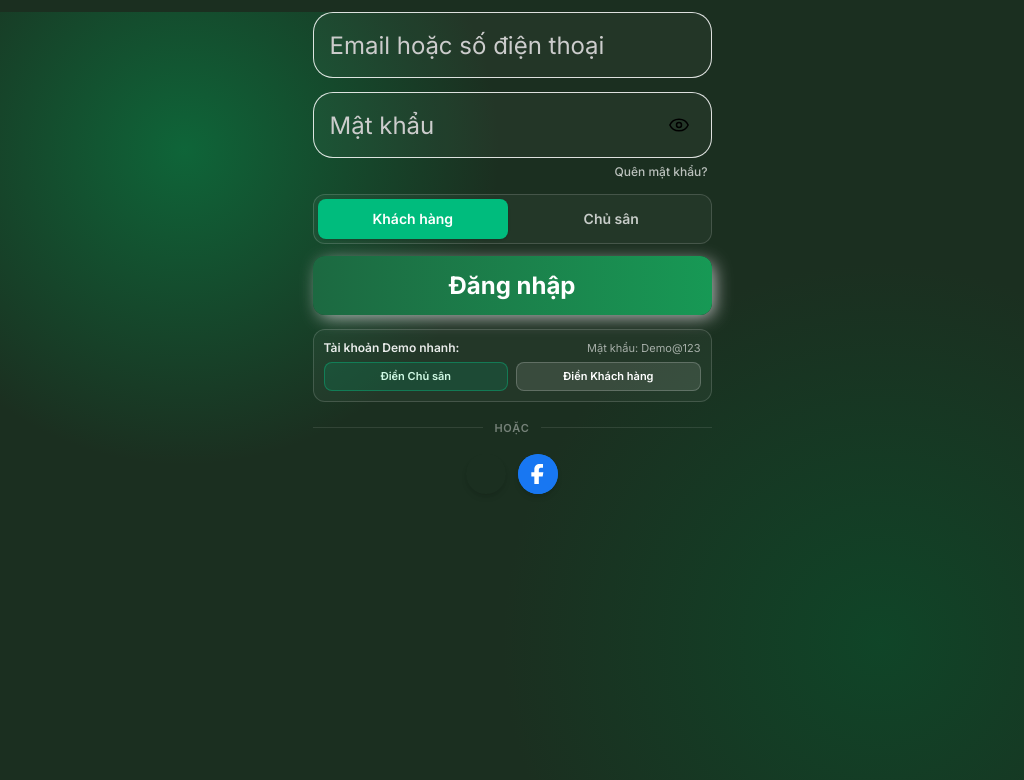
Test: LoginForm › shows validation error for short password
Type "test@example.com" into the field with placeholder "Email hoặc số điện thoại" at (512, 45), box [330,13,694,77]
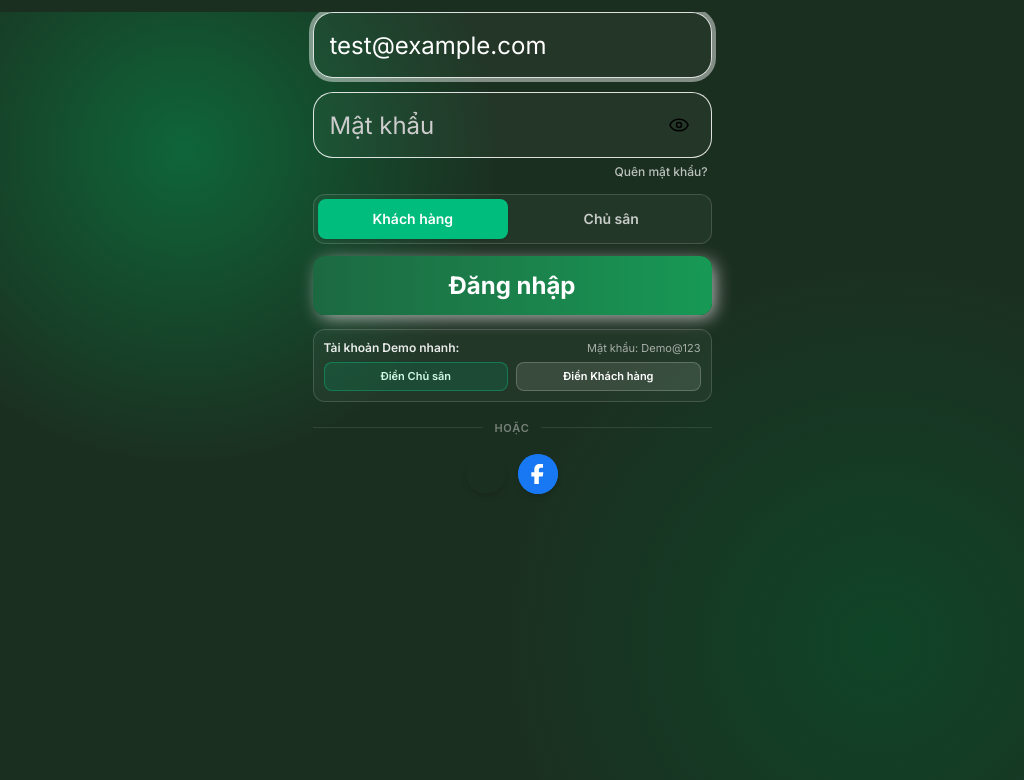
Type "123" into the password field with placeholder "Mật khẩu" at (490, 125), box [330,93,650,157]
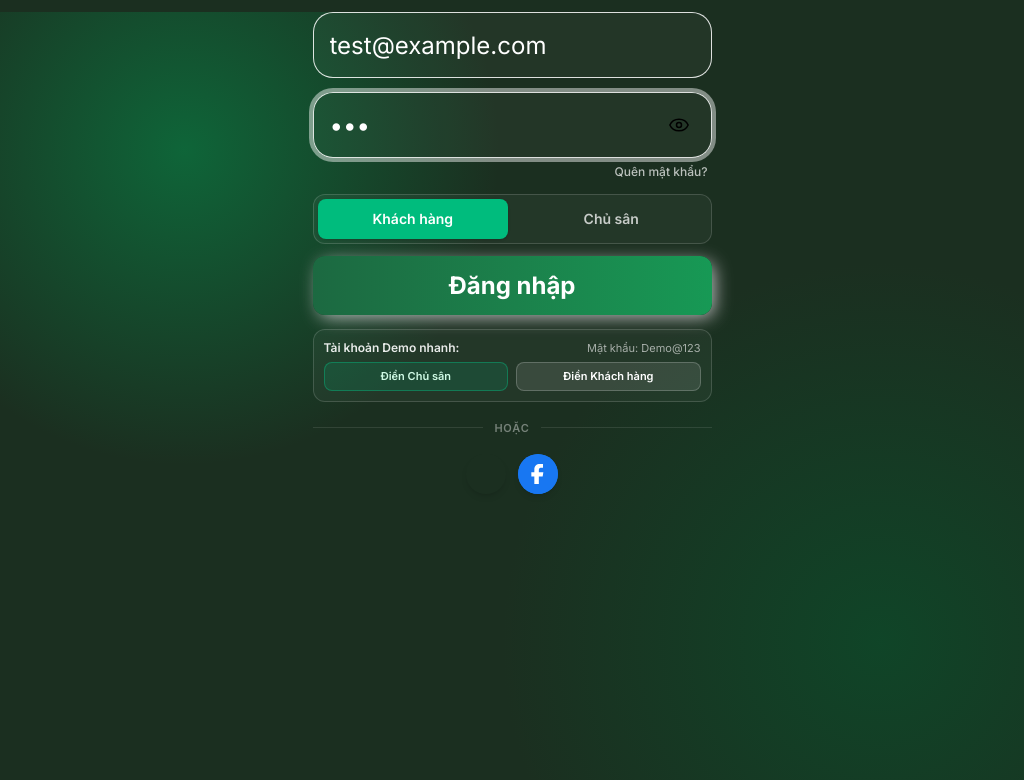
Click the button "Chủ sân" at (611, 219), box [516,199,706,239]
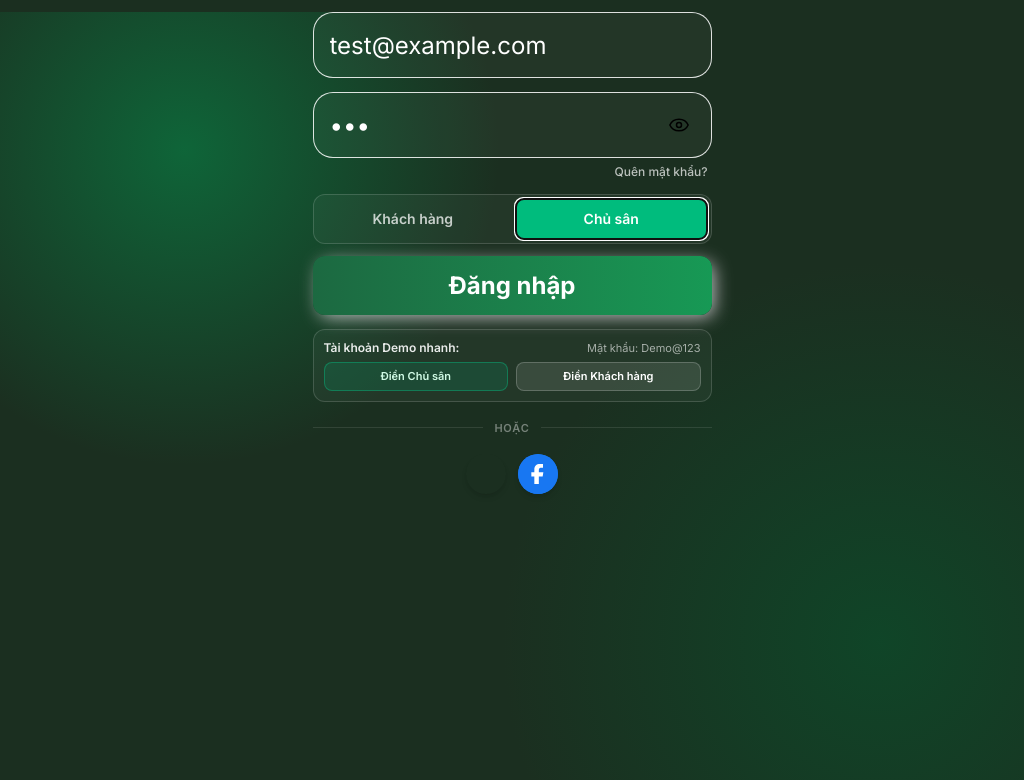
Click the button "Đăng nhập" at (512, 286), box [312,256,712,315]
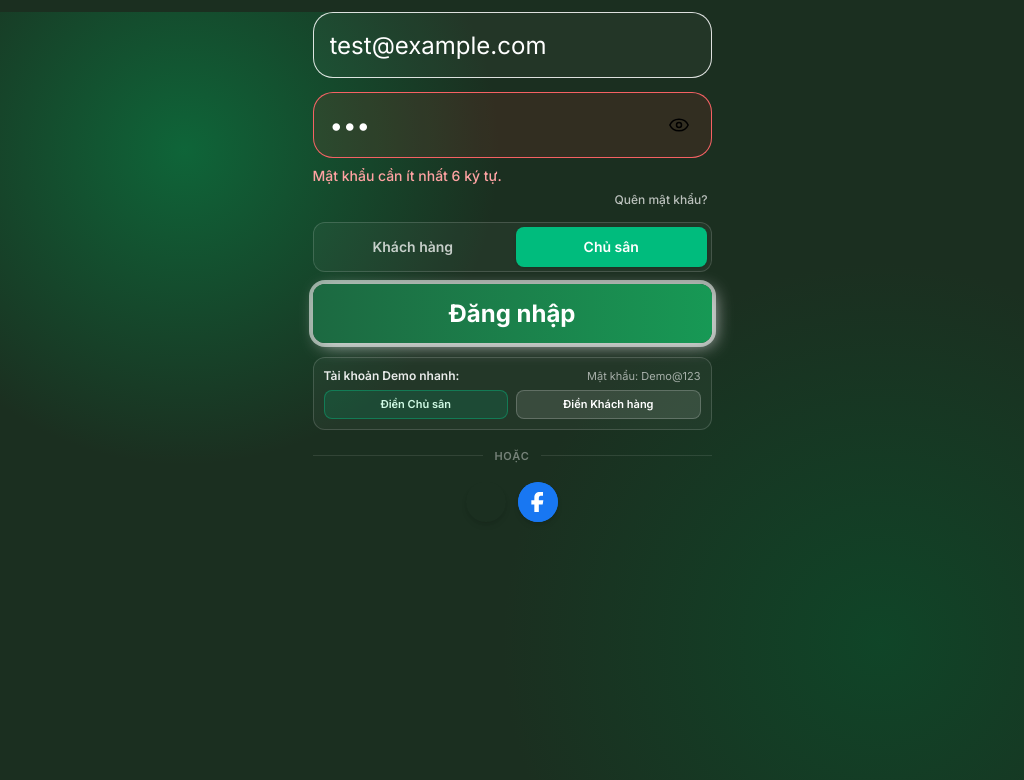
Expected: the text "Mật khẩu cần ít nhất 6 ký tự." is shown, [312,167,502,184]
